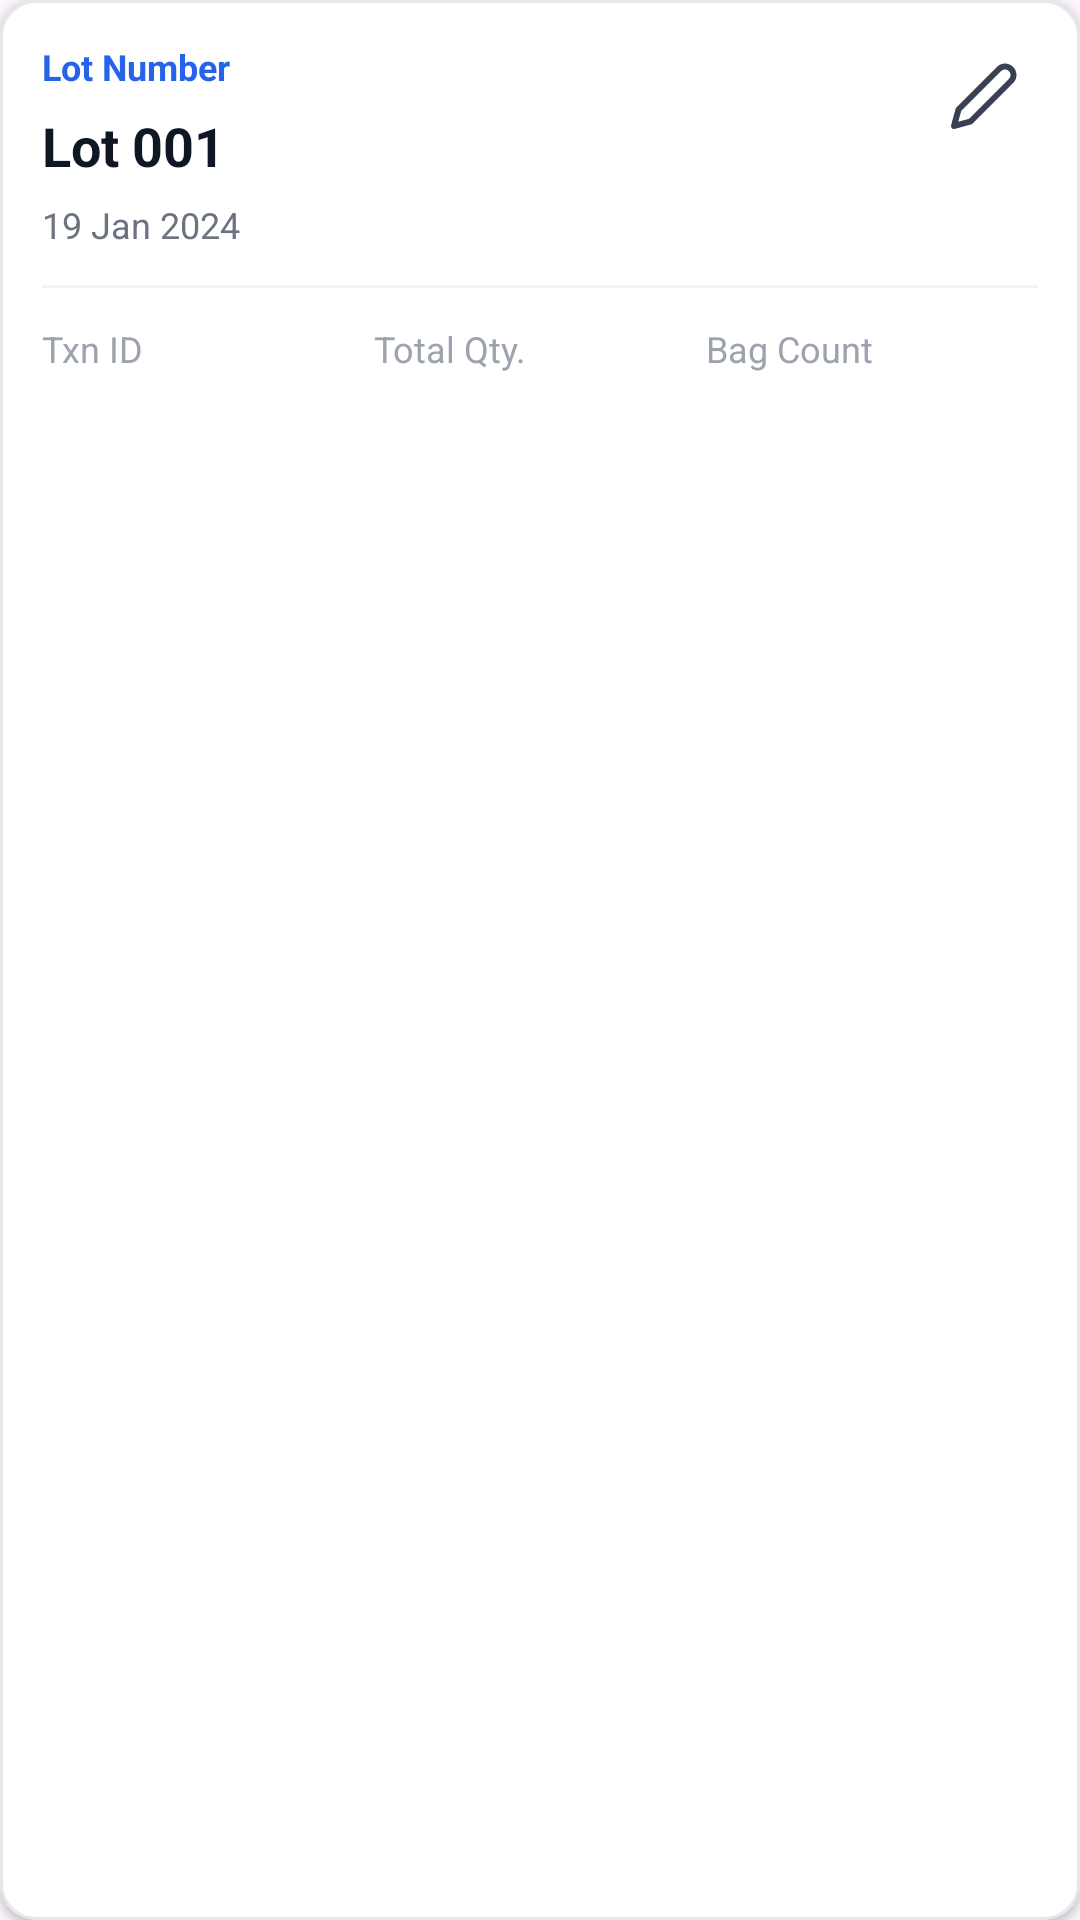

Named icons in this screenshot (1080*1920) and their centers, (x,y):
Edit: (984,96)
